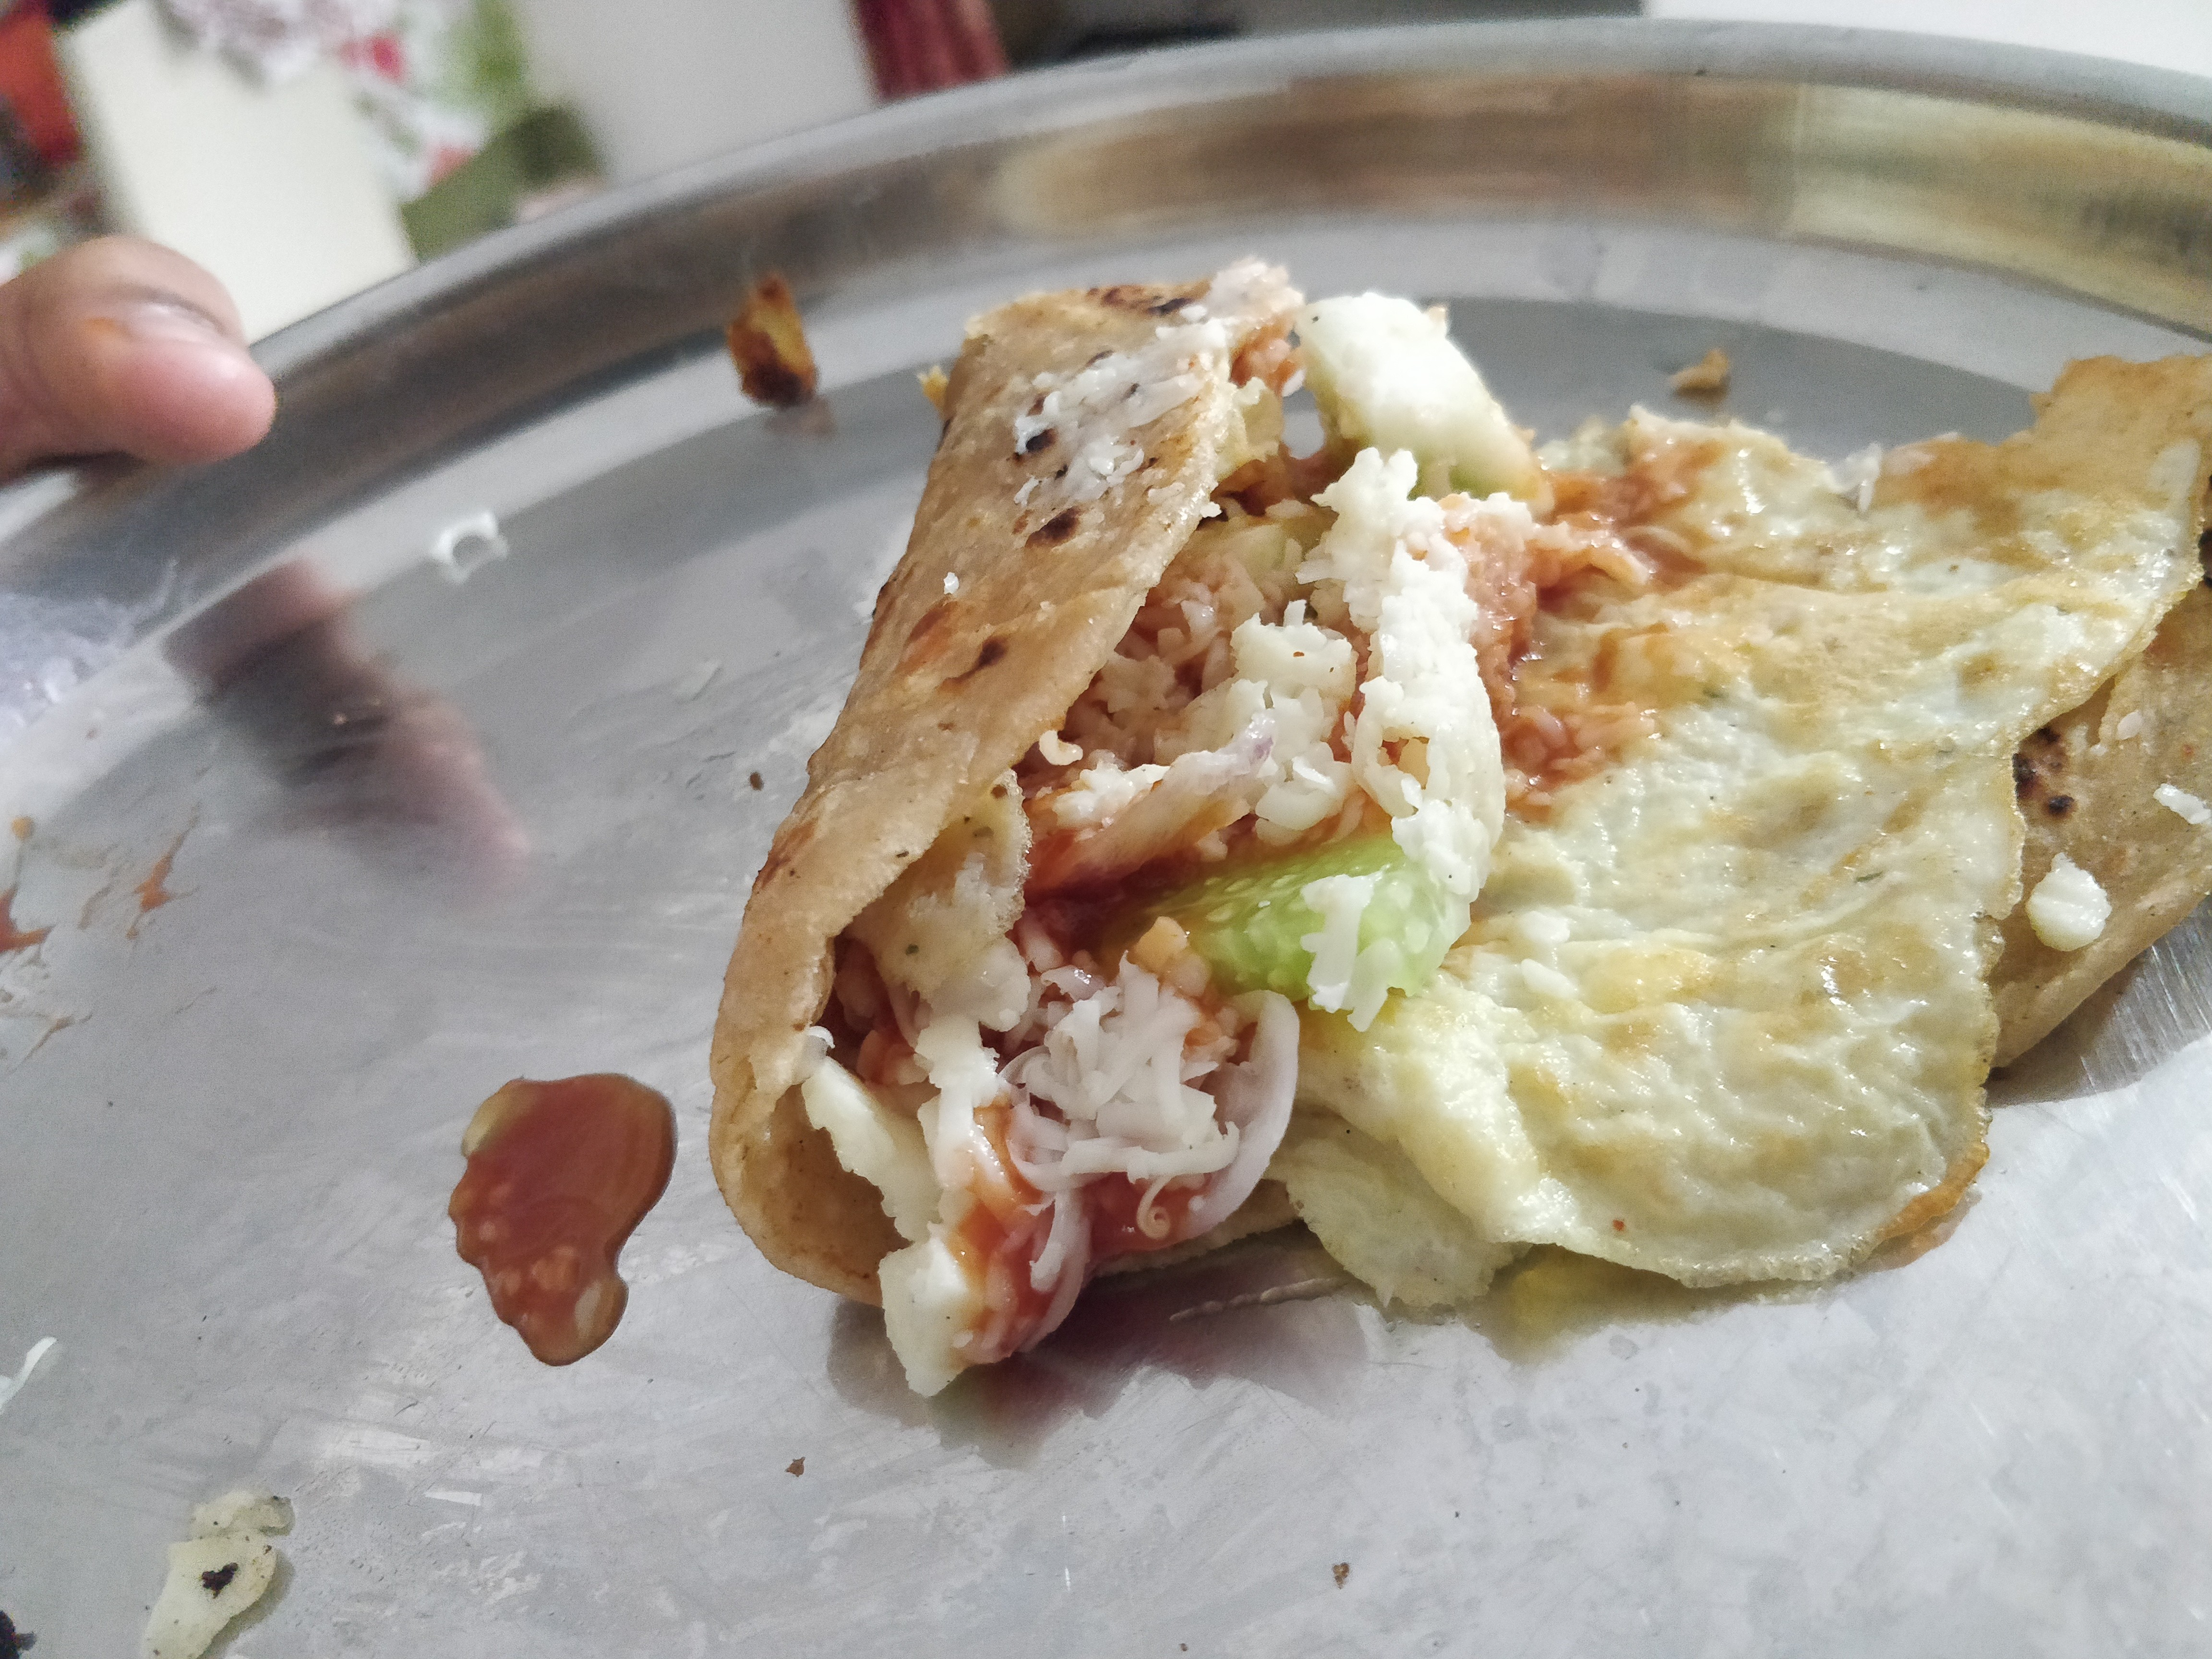food: (448, 249, 2209, 1410)
